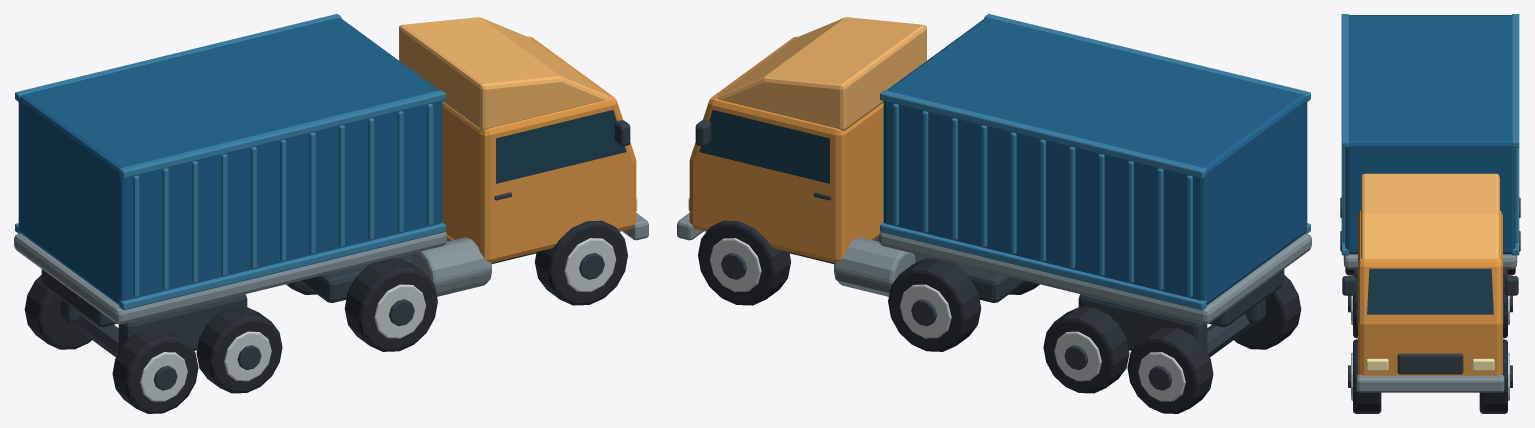
File: container-truck.glb
The picture shows the model from 3 angles, left to right: view 1: azimuth 30°, elevation 25°; view 2: azimuth 150°, elevation 25°; view 3: azimuth 270°, elevation 25°; orthographic projection. The views are drawn at different scales.
Parts seen in each view (by area): view 1: container-truck, cab; view 2: container-truck, cab; view 3: container-truck, cab.
Boxes of the visible parts, left/top/right/bottom form: container-truck: left=14, top=14, right=627, bottom=413; cab: left=399, top=17, right=648, bottom=262; container-truck: left=698, top=14, right=1311, bottom=413; cab: left=677, top=17, right=926, bottom=262; container-truck: left=1340, top=14, right=1520, bottom=413; cab: left=1342, top=173, right=1518, bottom=392.
Bounding box in the file's own units: 3.41 × 1.54 × 1.21.
